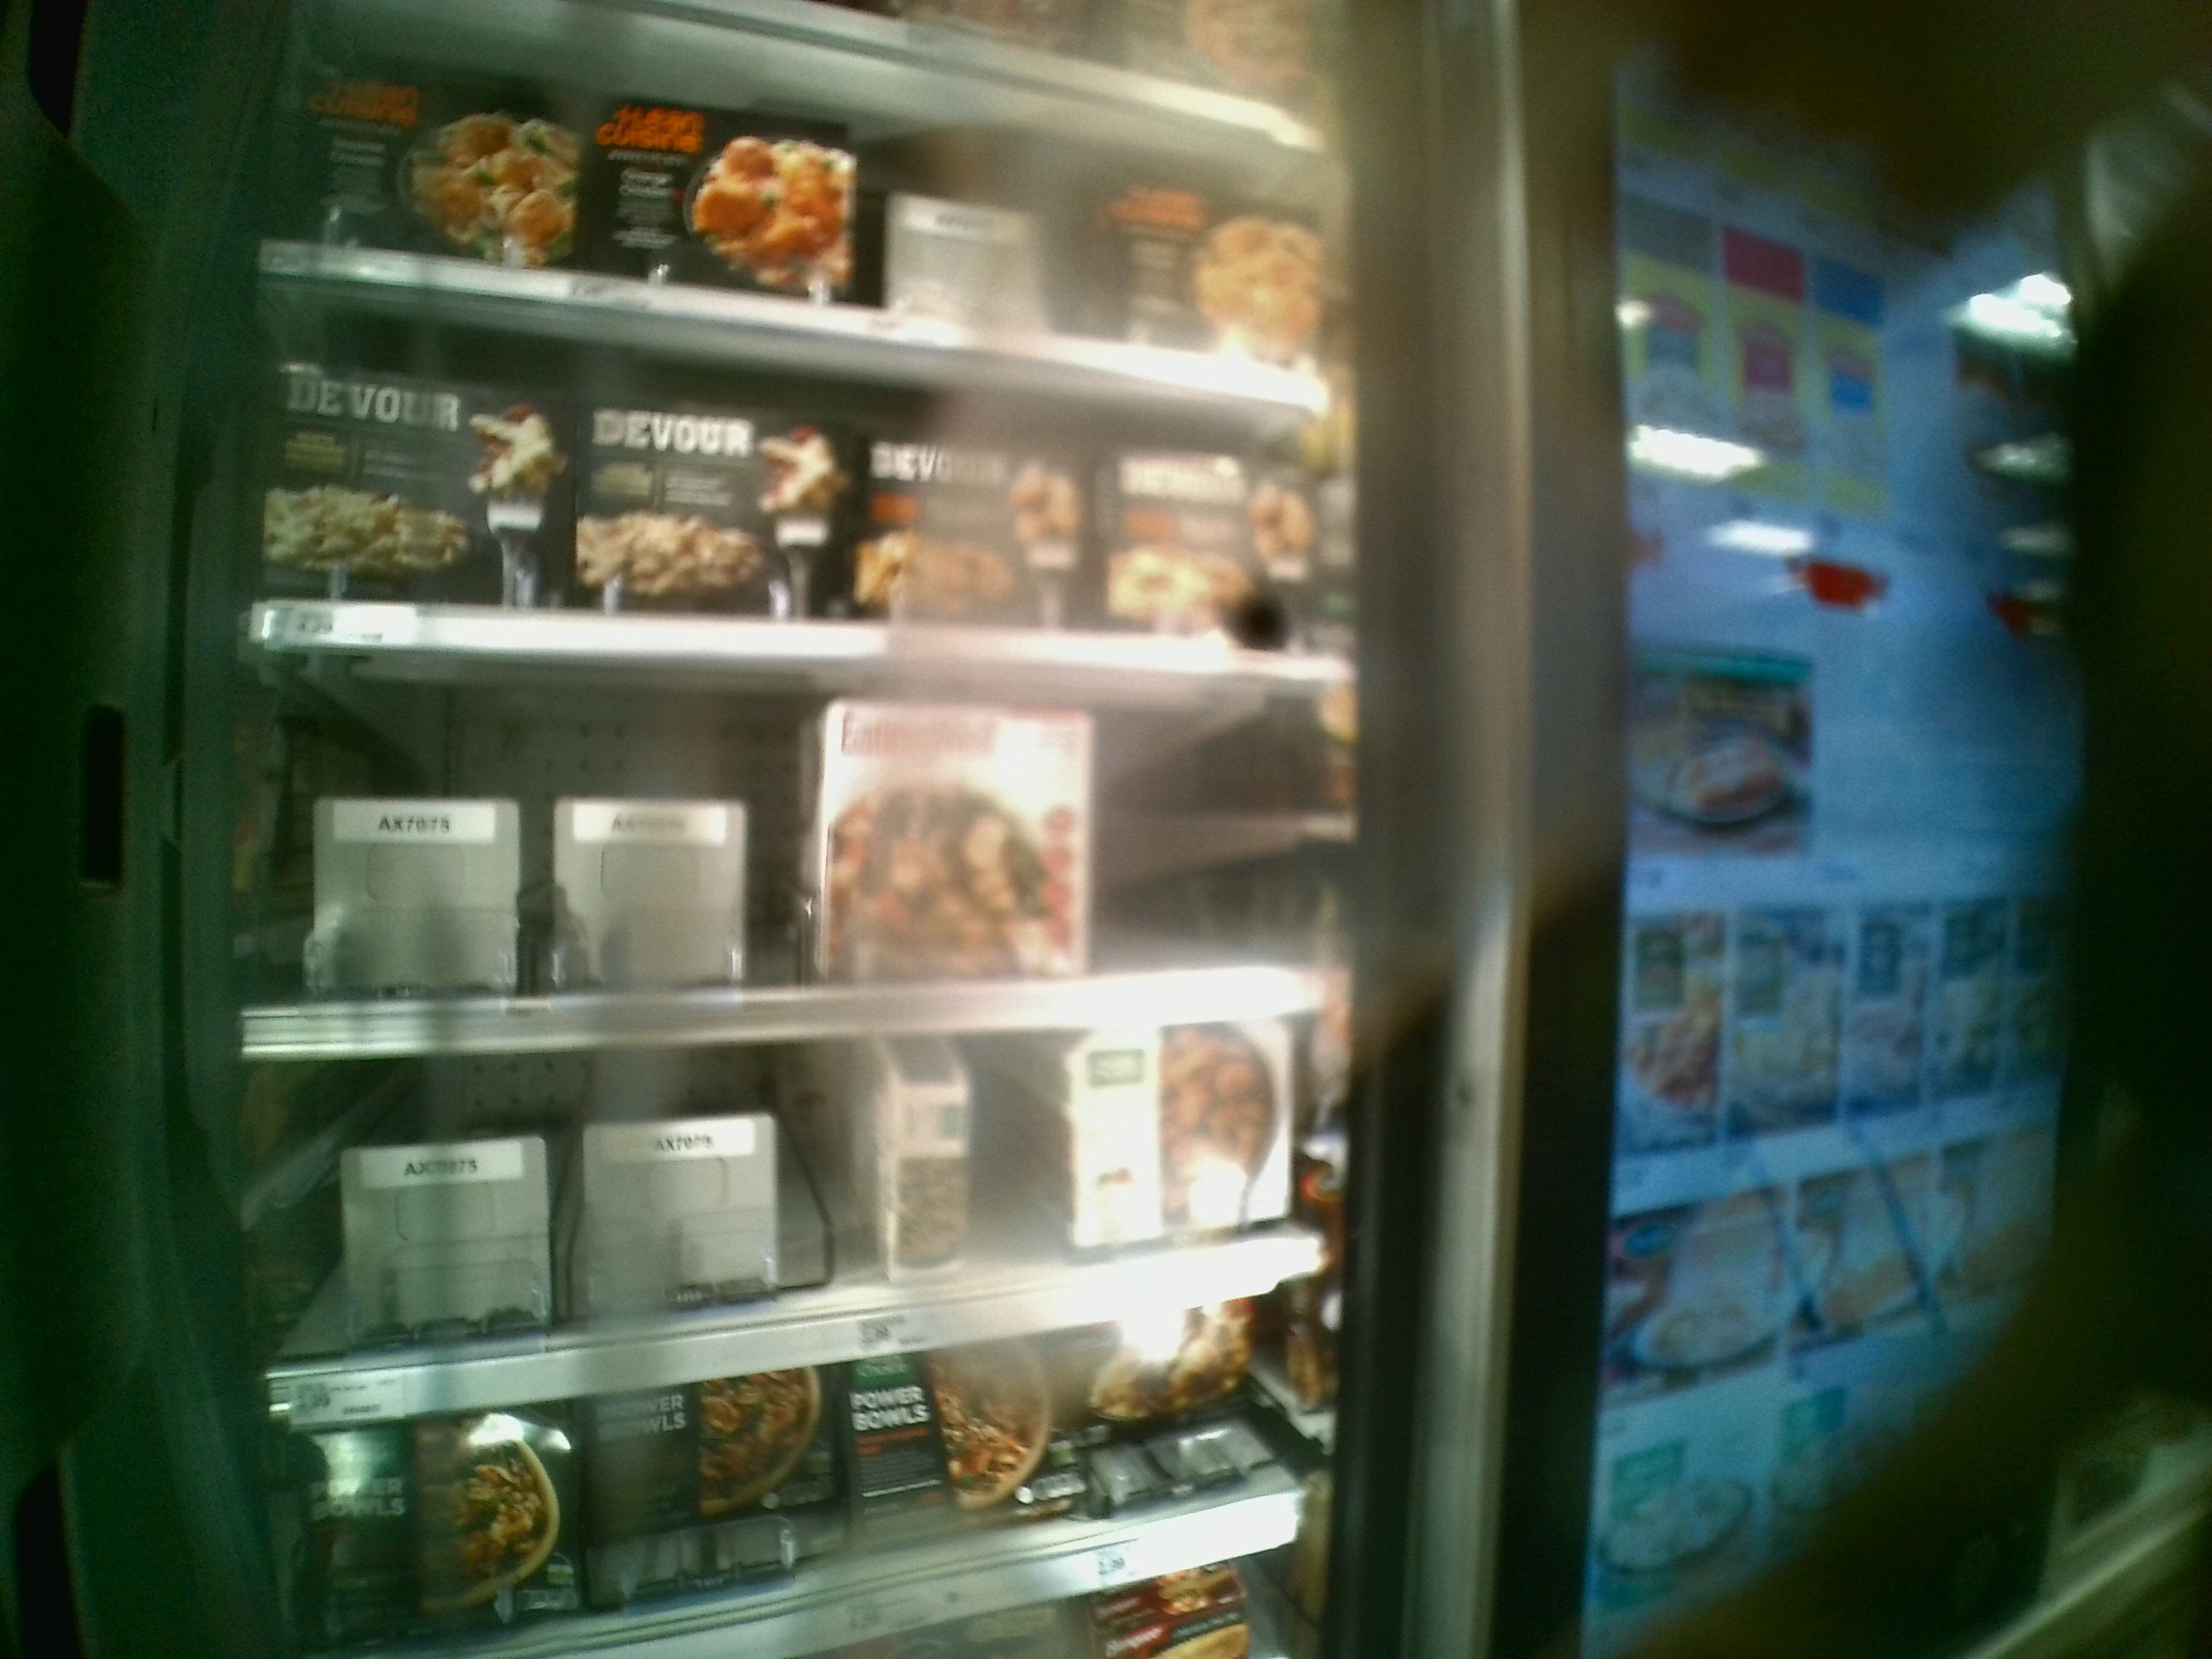shelf: (249, 638, 1350, 1053)
